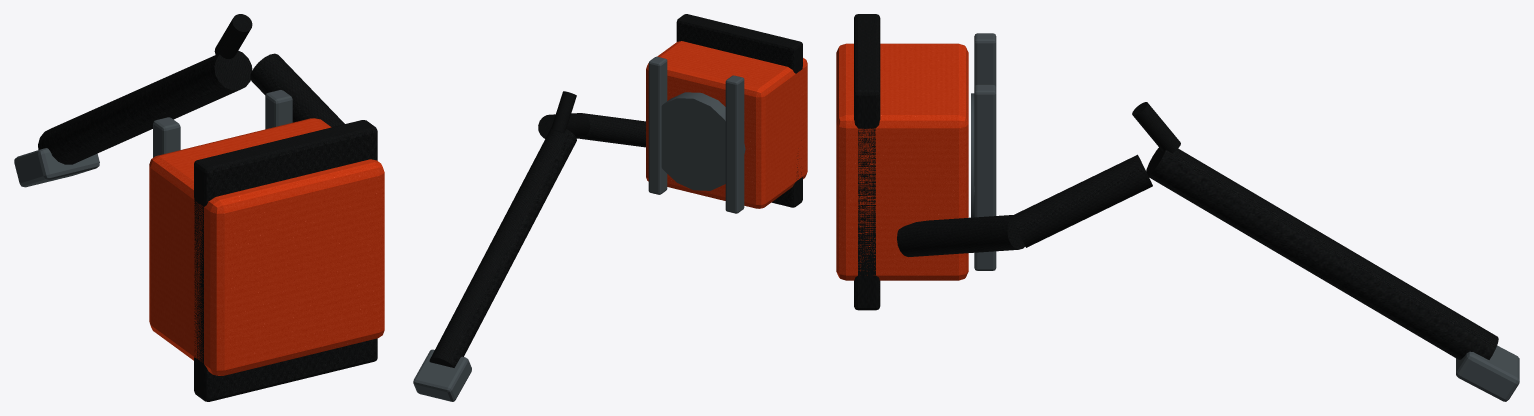
The model's file is BackpackBlower.gltf.
The picture shows the model from 3 angles, left to right: view 1: azimuth 30°, elevation 25°; view 2: azimuth 150°, elevation 25°; view 3: azimuth 270°, elevation 25°; orthographic projection. The views are drawn at different scales.
Visible parts, largest first — view 1: BackpackBlower__Body; view 2: BackpackBlower__Body; view 3: BackpackBlower__Body.
Part boxes in pixels (x1,y1,x2,y2): BackpackBlower__Body: (14, 14, 384, 401); BackpackBlower__Body: (413, 14, 807, 401); BackpackBlower__Body: (836, 14, 1519, 401).
Size of the model in its own units: 0.7018 by 0.8168 by 1.73.
Materials: 2 (1 with a texture image).
